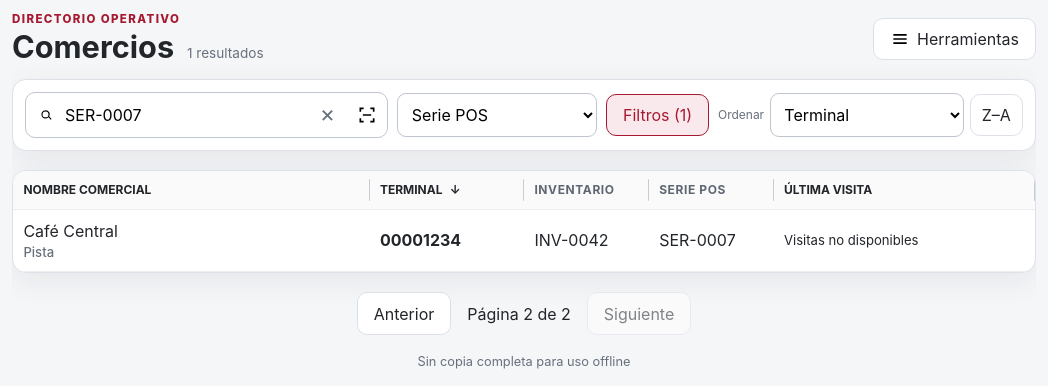
Test: interfaz de Comercios › limpia el texto desde el buscador sin cambiar campo, filtros u orden ni abrir el escáner
Click the button "×" at (327, 115), box left=307, top=94, right=347, bottom=136
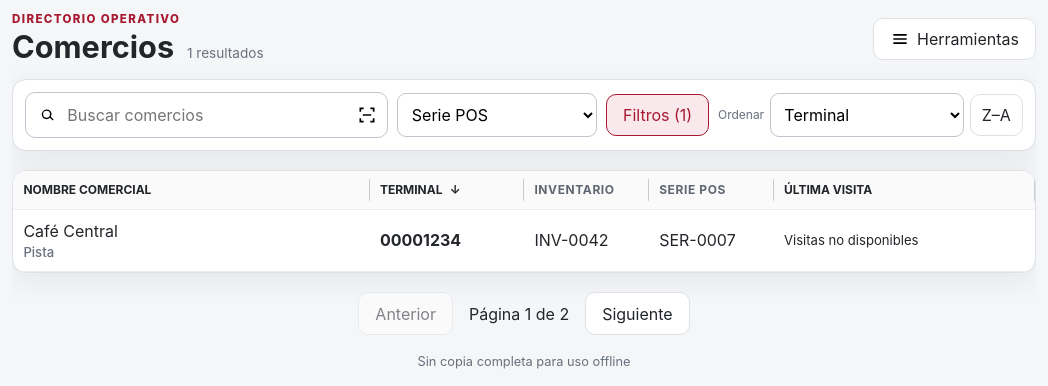
Expected: the button named "Escanear código" is shown, left=347, top=94, right=387, bottom=136
Expected: the field labelled "Buscar comercios" is empty, left=55, top=93, right=347, bottom=137
